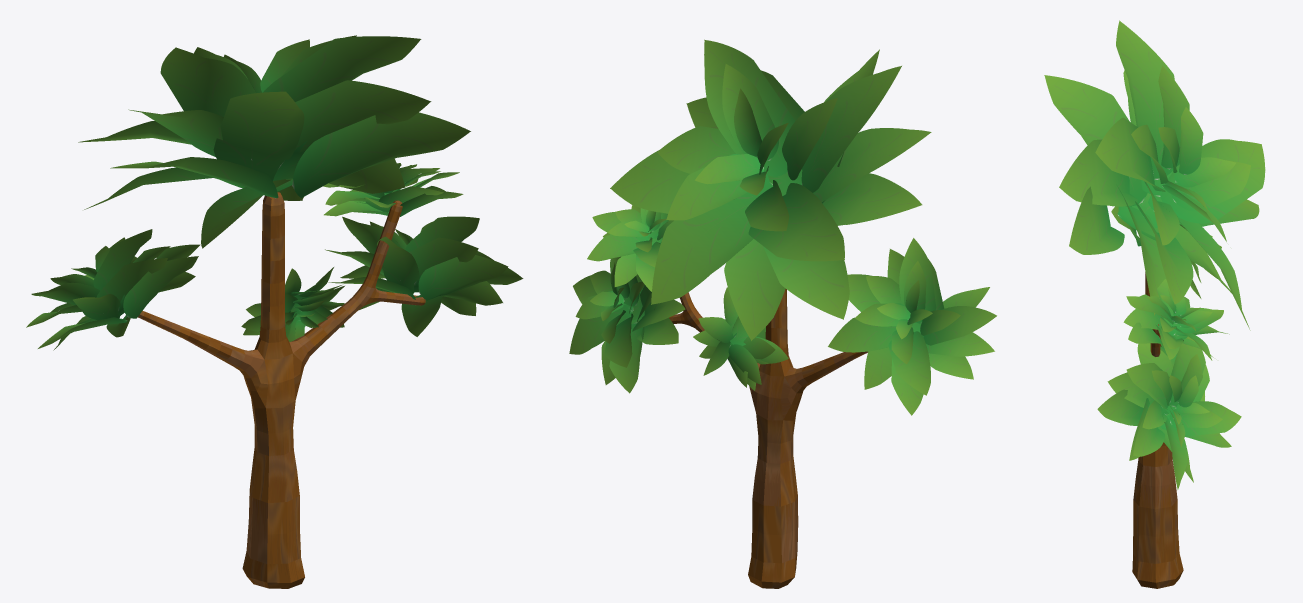
The model's file is treesecondstyle.fbx.
The picture shows the model from 3 angles, left to right: view 1: azimuth 30°, elevation 25°; view 2: azimuth 150°, elevation 25°; view 3: azimuth 270°, elevation 25°; orthographic projection. The views are drawn at different scales.
Visible parts, largest first — view 1: Plane.005, Plane, Plane.007, Plane.023, Plane.006, Plane.008; view 2: Plane.005, Plane.023, Plane, Plane.007, Plane.006, Plane.008; view 3: Plane.005, Plane.007, Plane, Plane.006, Plane.023.
Part boxes in pixels (x1,y1,x2,y2): Plane.005: (78,35,470,248); Plane: (138,192,425,588); Plane.007: (325,216,523,336); Plane.023: (26,229,200,350); Plane.006: (323,163,463,216); Plane.008: (241,267,344,341); Plane.005: (610,39,931,340); Plane.023: (828,238,996,415); Plane: (638,289,867,588); Plane.007: (569,256,685,393); Plane.006: (587,205,673,291); Plane.008: (693,287,788,390); Plane.005: (1044,20,1265,330); Plane.007: (1097,336,1241,489); Plane: (1132,272,1183,588); Plane.006: (1123,279,1229,360); Plane.023: (1111,206,1221,298).
Bounding box in the file's own units: 523 × 620 × 270.
